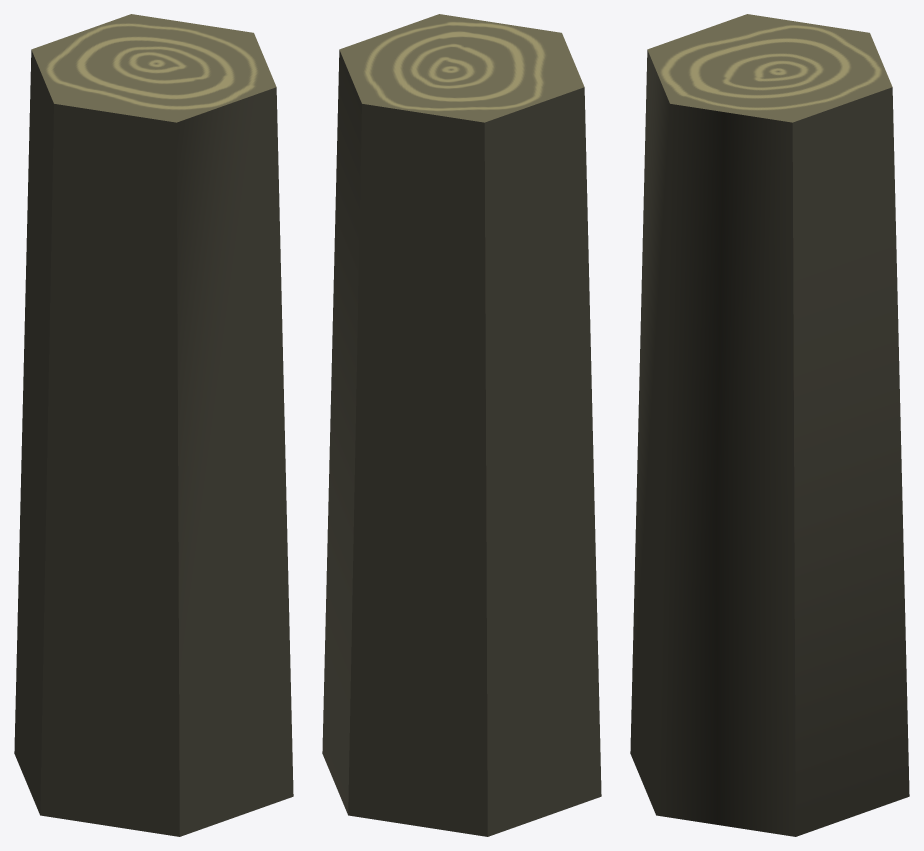
Rendered from tree_trunk.fbx.
The picture shows the model from 3 angles, left to right: view 1: azimuth 30°, elevation 25°; view 2: azimuth 150°, elevation 25°; view 3: azimuth 270°, elevation 25°; orthographic projection.
Visible parts, largest first — view 1: tree_trunk01; view 2: tree_trunk01; view 3: tree_trunk01.
Boxes of the visible parts, box(x1,y1,x2,y2) form: tree_trunk01: box(14, 14, 293, 836); tree_trunk01: box(322, 14, 601, 836); tree_trunk01: box(630, 14, 909, 836).
Size of the model in its own units: 26.07 by 69.52 by 24.88.
